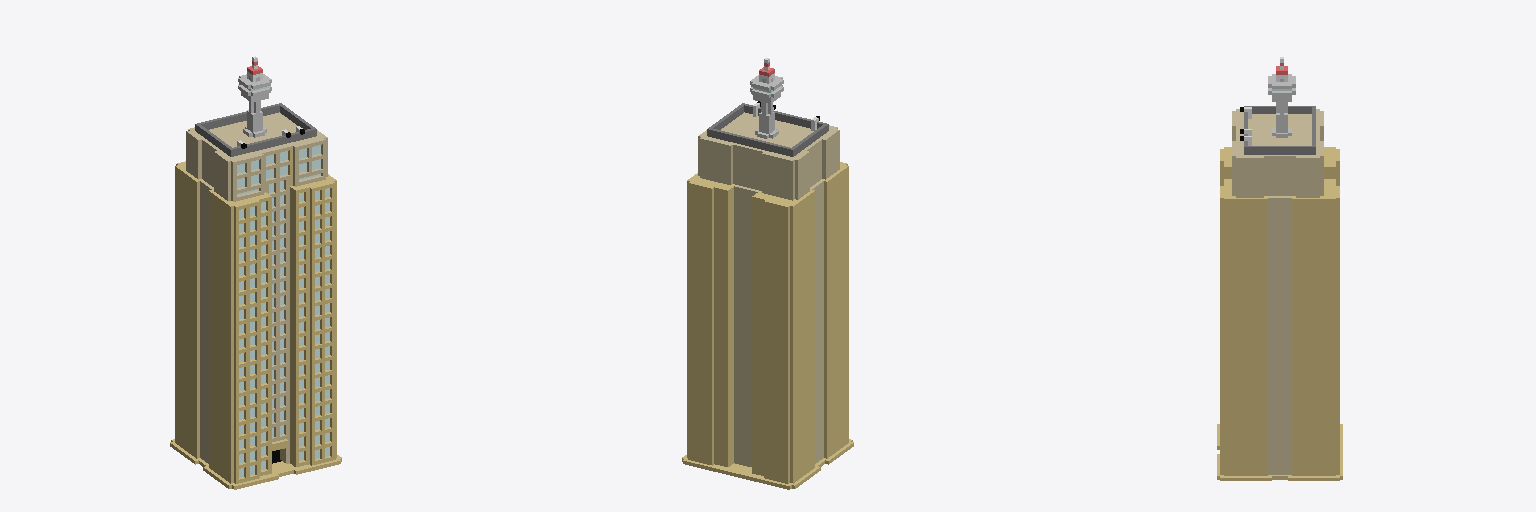
3 renders of one model, left to right at view 1: azimuth 30°, elevation 25°; view 2: azimuth 150°, elevation 25°; view 3: azimuth 270°, elevation 25°, orthographic.
Size of the model in its own units: 33 by 110 by 32.
1 materials, 1 textured.